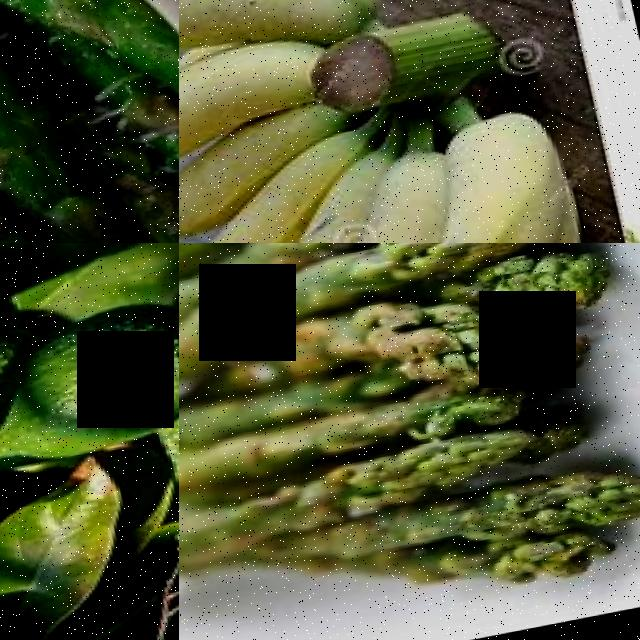asparagus: (179, 420, 560, 582), (232, 294, 573, 436), (179, 243, 519, 367), (345, 502, 620, 631)
avocado: (0, 294, 179, 491), (123, 321, 179, 504)
banana: (179, 0, 635, 243)
